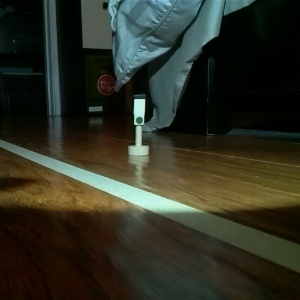traffic light green: (126, 92, 150, 157)
